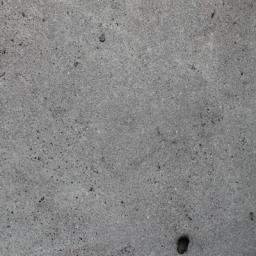FOD: (175, 234, 193, 256)
